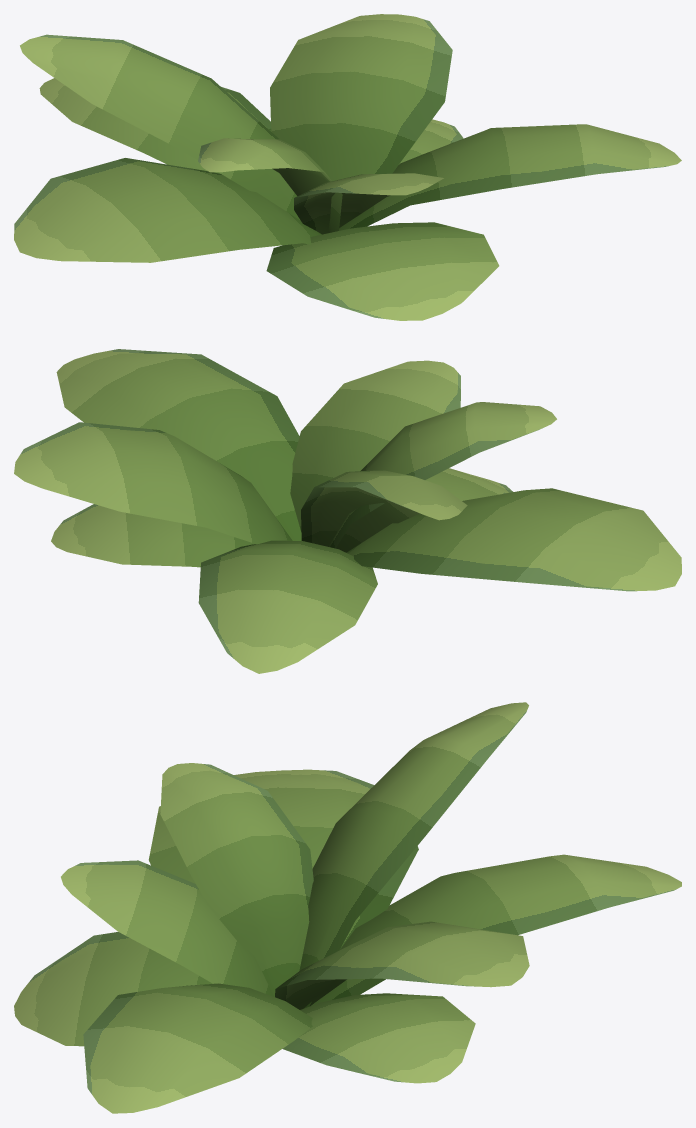
The model's file is Fern.FBX.
3 views of the same model, one above another, from view 1: azimuth 30°, elevation 25°; view 2: azimuth 150°, elevation 25°; view 3: azimuth 270°, elevation 25° (orthographic). The views are drawn at different scales.
Visible parts, largest first — view 1: Fern; view 2: Fern; view 3: Fern.
Part boxes in pixels (x1=…): Fern: x1=14, y1=14, x2=681, y2=320; Fern: x1=14, y1=349, x2=681, y2=673; Fern: x1=14, y1=702, x2=681, y2=1113.
Size of the model in its own units: 134 by 38.46 by 110.
Materials: 1 (1 with a texture image).
